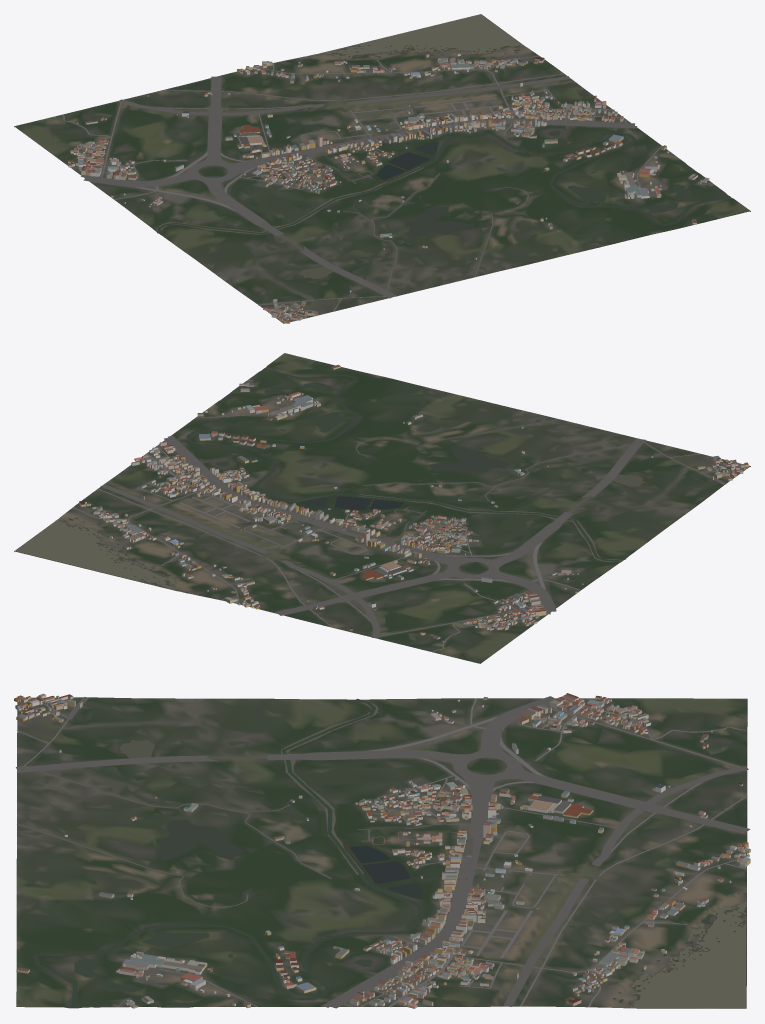
3 renders of one model, top to bottom at view 1: azimuth 30°, elevation 25°; view 2: azimuth 150°, elevation 25°; view 3: azimuth 270°, elevation 25°, orthographic. The views are drawn at different scales.
Parts seen in each view (by area): view 1: ground, buildings, roads, water; view 2: ground, buildings, roads, water; view 3: ground, buildings, roads, water.
Part boxes in pixels (left/top/right/bottom): ground: left=14, top=15, right=750, bottom=323; buildings: left=68, top=53, right=709, bottom=323; roads: left=62, top=55, right=713, bottom=322; water: left=156, top=14, right=730, bottom=278; ground: left=14, top=353, right=750, bottom=663; buildings: left=79, top=364, right=748, bottom=642; roads: left=72, top=380, right=748, bottom=651; water: left=15, top=368, right=644, bottom=592; ground: left=16, top=697, right=747, bottom=1008; buildings: left=14, top=693, right=750, bottom=1008; roads: left=16, top=696, right=750, bottom=1008; water: left=33, top=698, right=746, bottom=1007.
Bounding box in the file's own units: 1416 × 33.59 × 1415.
